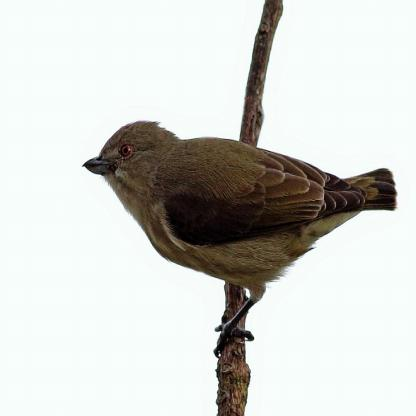Burung: (77, 121, 399, 341)
